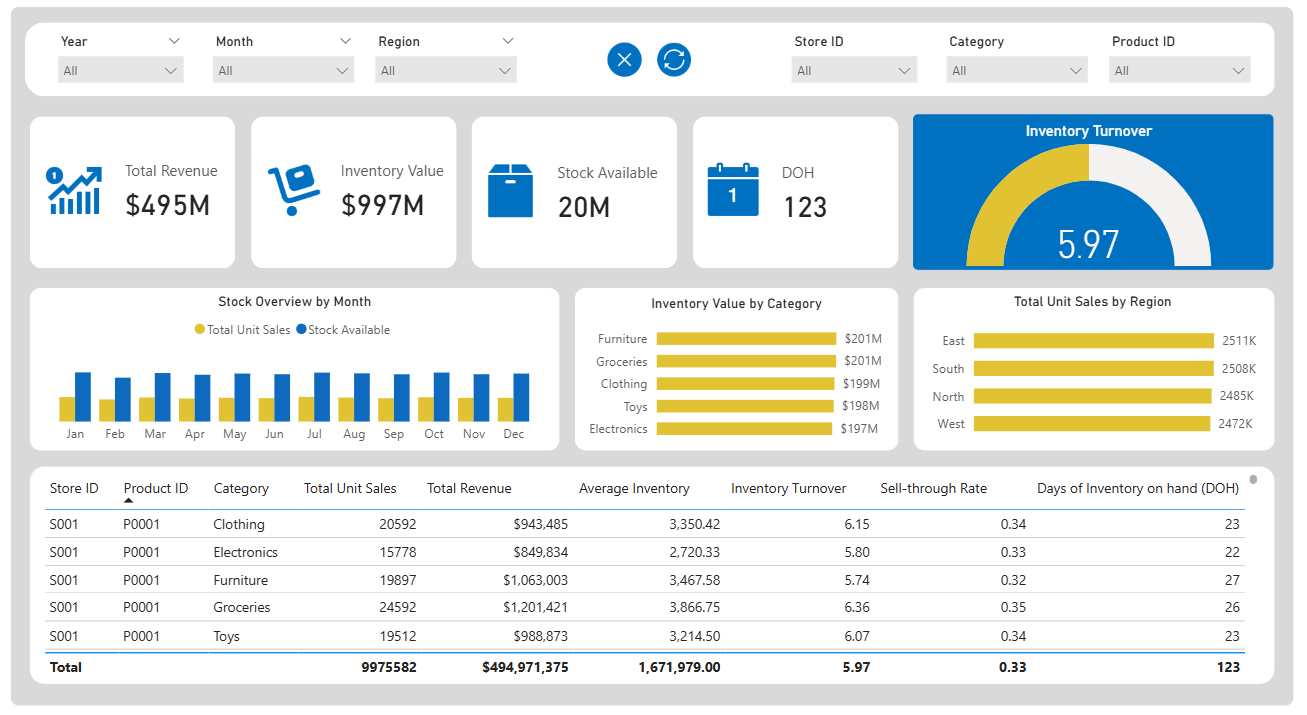

The page's visual inventory and layout, read from the dashboard file:
{"tool":"powerbi","page":{"name":"Page 1","canvas":[1280,720],"ordinal":0},"visuals":[{"type":"textbox","title":"Title","box":[54.9,39.8,476.2,54.9],"z":0},{"type":"cardVisual","fields":{"Data":["Key Measure.Total Revenue","Key Measure.Inventory Value","Key Measure.Stock Available","Key Measure.Days of Inventory on hand (DOH)"]},"box":[32.7,118.6,854.6,157.4],"z":1000},{"type":"gauge","fields":{"Y":["Key Measure.Inventory Turnover"]},"box":[895.8,128.3,335.3,145.3],"z":2000},{"type":"clusteredColumnChart","title":"Stock Overview by Month","fields":{"Y":["Key Measure.Total Unit Sales","Key Measure.Stock Available"],"Category":["Date.Month Name"]},"box":[46,295.4,496.3,153.7],"z":3000},{"type":"barChart","fields":{"Y":["Key Measure.Inventory Value"],"Category":["Inventory.Category"]},"box":[568.9,296.6,306.3,150.1],"z":4000},{"type":"barChart","fields":{"Y":["Key Measure.Total Unit Sales"],"Category":["Inventory.Region"]},"box":[903,295.4,328,150.1],"z":5000},{"type":"tableEx","fields":{"Values":["Inventory.Store ID","Inventory.Product ID","Inventory.Category","Key Measure.Total Unit Sales","Key Measure.Total Revenue","Key Measure.Average Inventory","Key Measure.Inventory Turnover","Key Measure.Sell-through Rate","Key Measure.Days of Inventory on hand (DOH)"]},"box":[46,465.1,1185.8,209.5],"z":6000},{"type":"image","title":"Filter Pane Icon","box":[1167.5,36.5,55.5,59.9],"z":8000}]}

Visuals, with their boxes in screenshot pixels (x1, y1, x2, y2), scaled from the page's 1280x720 canvas onto the 1307x715 screenshot:
"Title" textbox: [56,40,542,94]
cardVisual - Key Measure.Total Revenue x Key Measure.Inventory Value: [33,118,906,274]
gauge - Key Measure.Inventory Turnover: [915,127,1257,272]
"Stock Overview by Month" clusteredColumnChart: [47,293,554,446]
barChart - Key Measure.Inventory Value x Inventory.Category: [581,295,894,444]
barChart - Key Measure.Total Unit Sales x Inventory.Region: [922,293,1257,442]
tableEx - Inventory.Store ID x Inventory.Product ID: [47,462,1258,670]
"Filter Pane Icon" image: [1192,36,1249,96]
